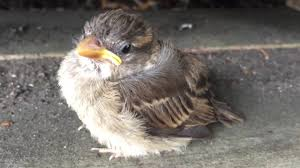hsparrow: (52, 6, 251, 162)
